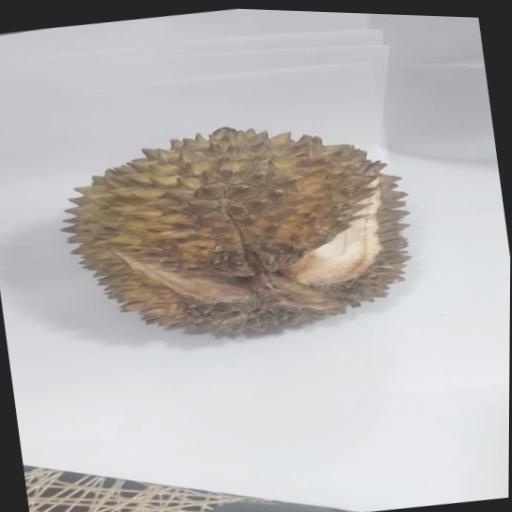rot: (22, 77, 446, 381)
